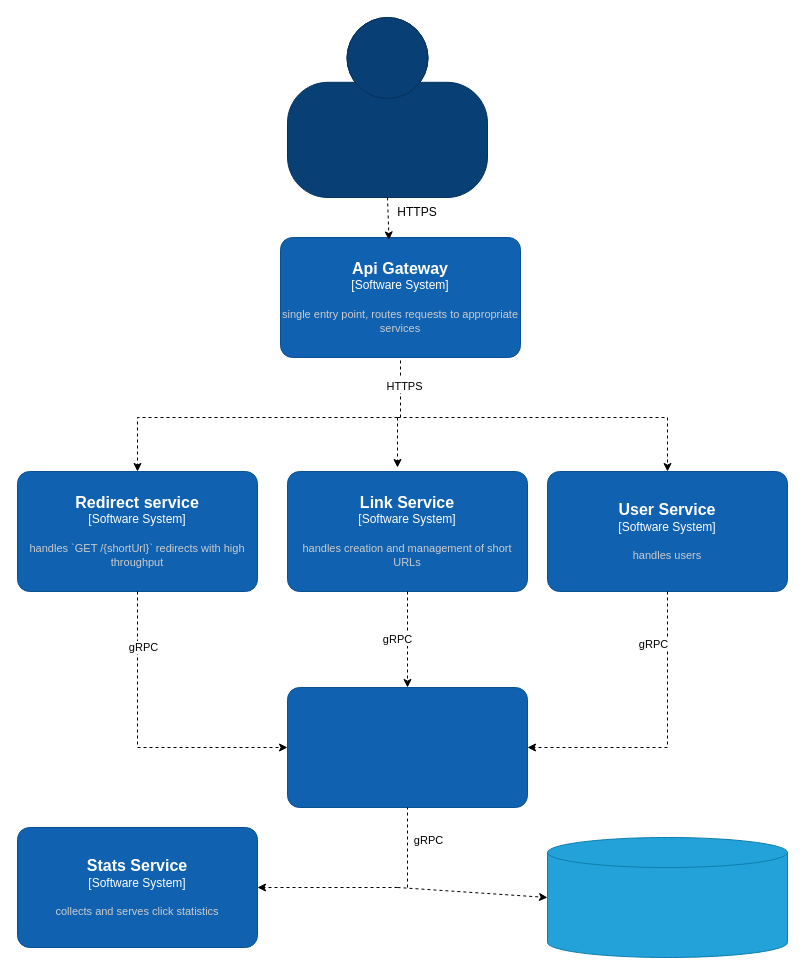
Image size: 805x975. Some labels were removed from this diagram. The shapes that lost their labels are listed below. From the top down, each one's box as (x1, y1, x2, y2) in pixels, then its label:
(286, 16, 488, 198): User [Person] User
(286, 686, 528, 808): RabbidMQ [Software System] broker that handles communication with gRPC
(546, 836, 788, 958): Database [Container: Sqlite]
